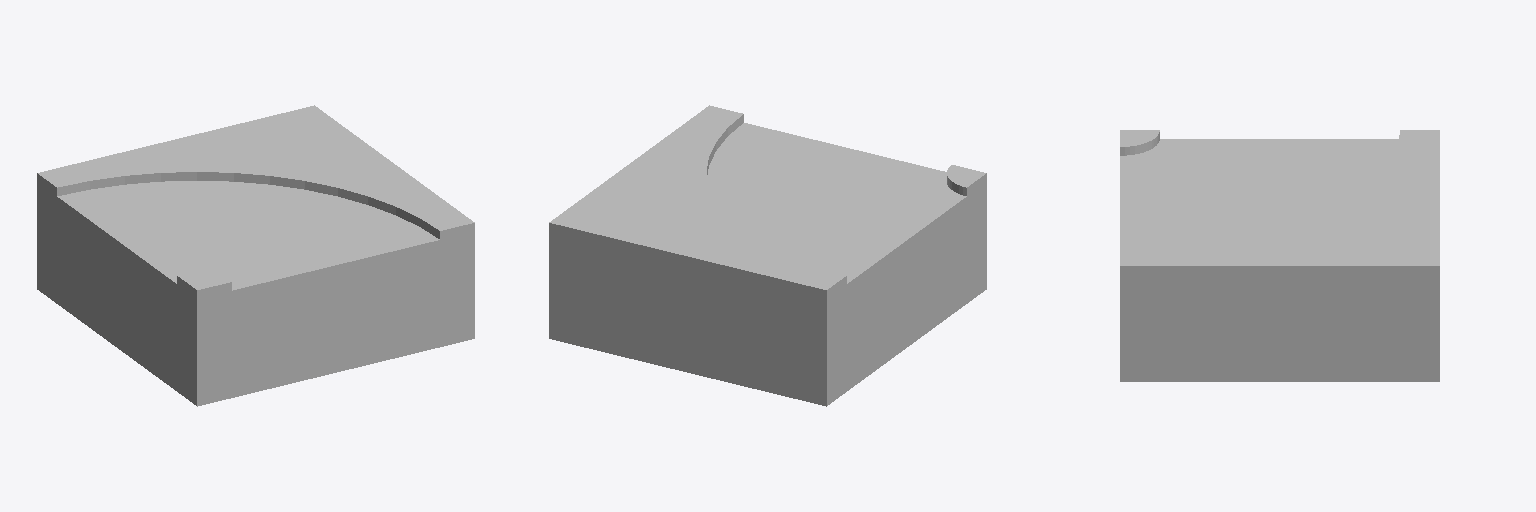
The model's file is tile_101.obj.
3 renders of one model, left to right at view 1: azimuth 30°, elevation 25°; view 2: azimuth 150°, elevation 25°; view 3: azimuth 270°, elevation 25°, orthographic.
Visible parts, largest first — view 1: tile_101; view 2: tile_101; view 3: tile_101.
Boxes of the visible parts, <box> form: tile_101: <box>37,105,474,406</box>; tile_101: <box>549,105,986,406</box>; tile_101: <box>1120,130,1439,381</box>.
Size of the model in its own units: 1 by 0.4 by 1.